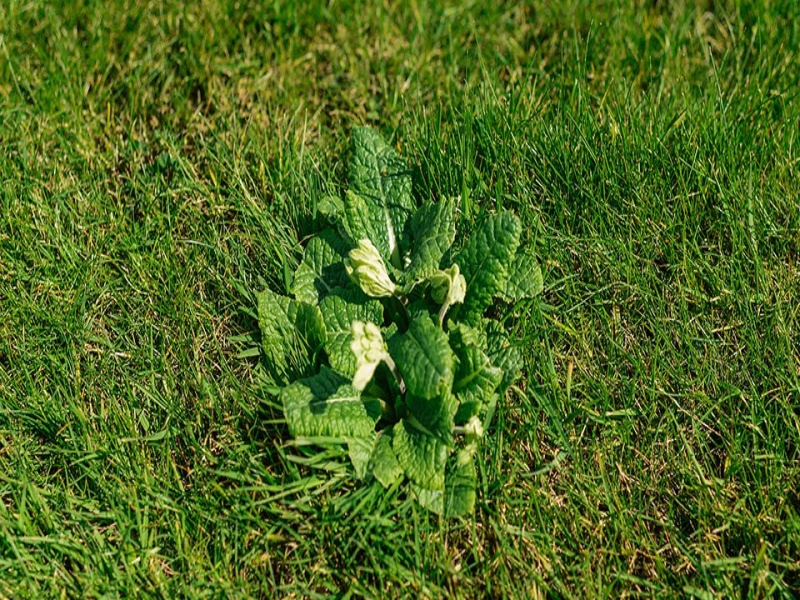weed: (254, 126, 542, 516)
